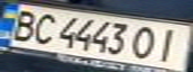3: (106, 20, 133, 56)
4: (51, 15, 78, 49), (72, 16, 96, 52), (90, 18, 112, 55)
B: (3, 7, 42, 43)
C: (24, 11, 60, 45)
I: (151, 26, 190, 63)
O: (127, 24, 163, 61)
